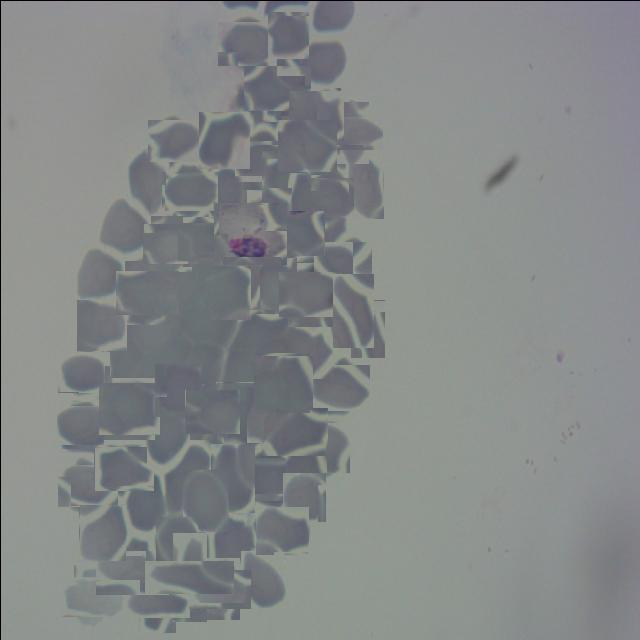gametocyte: (215, 199, 283, 267)
leukocyte: (158, 546, 220, 607), (162, 445, 212, 517), (101, 543, 160, 602), (289, 418, 346, 476), (97, 196, 150, 258), (254, 354, 311, 411), (100, 379, 156, 436), (261, 407, 327, 455), (249, 60, 305, 116), (278, 116, 334, 172), (260, 149, 310, 211), (210, 444, 254, 514), (332, 273, 373, 347), (215, 381, 263, 443), (282, 267, 337, 321), (310, 360, 364, 414), (288, 88, 342, 142), (119, 265, 173, 319), (198, 111, 249, 168), (280, 324, 333, 378), (182, 469, 228, 531), (125, 148, 168, 214), (147, 401, 190, 466), (220, 17, 272, 70), (67, 570, 120, 622), (97, 442, 150, 494), (242, 452, 294, 504), (316, 238, 368, 290), (269, 206, 321, 258), (249, 256, 296, 313), (78, 503, 125, 560), (193, 562, 244, 614), (76, 299, 126, 352), (254, 505, 308, 554), (240, 550, 285, 608), (61, 460, 112, 511), (130, 574, 182, 624), (153, 362, 201, 416), (238, 135, 288, 185), (186, 386, 236, 436), (204, 265, 250, 319), (298, 38, 348, 87), (124, 466, 163, 528), (146, 218, 194, 268), (345, 155, 383, 218), (150, 116, 199, 164), (301, 172, 348, 222), (202, 165, 246, 218), (328, 108, 376, 156), (165, 167, 212, 214), (59, 348, 106, 395), (281, 471, 325, 521), (213, 516, 255, 566), (76, 248, 120, 295), (349, 300, 384, 358), (266, 10, 308, 58), (58, 402, 102, 447), (155, 516, 197, 563), (179, 219, 223, 263)
